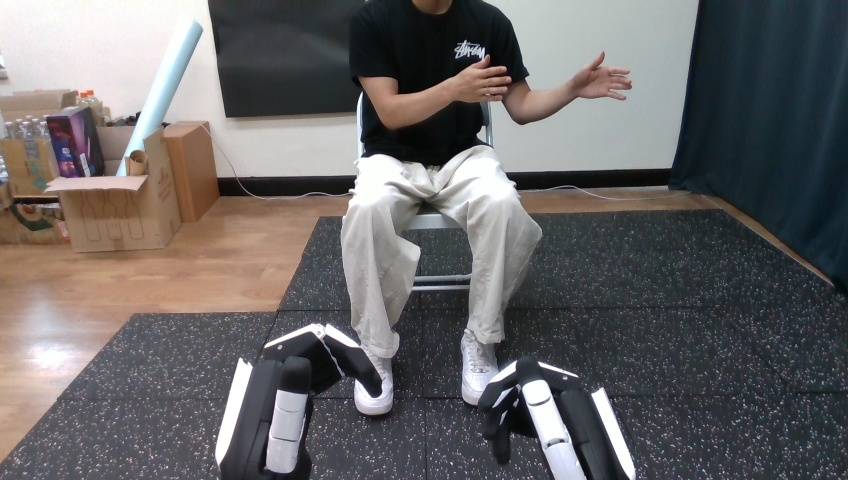left robot arm: (215, 324, 381, 479), (478, 356, 634, 479)
left robot hand: (215, 324, 381, 479), (478, 356, 634, 479), (570, 51, 631, 99)
right robot arm: (215, 324, 381, 479), (478, 356, 634, 479)
right robot hand: (570, 51, 631, 99), (450, 55, 511, 102)
